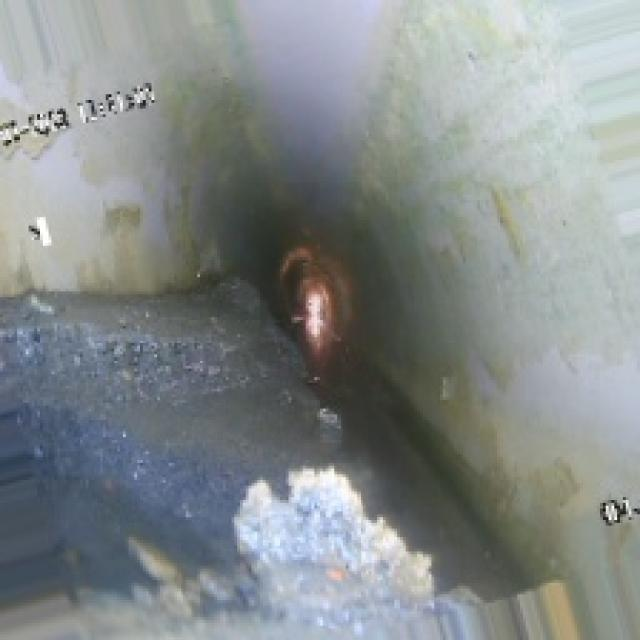sluge accumulation: (43, 289, 451, 634)
